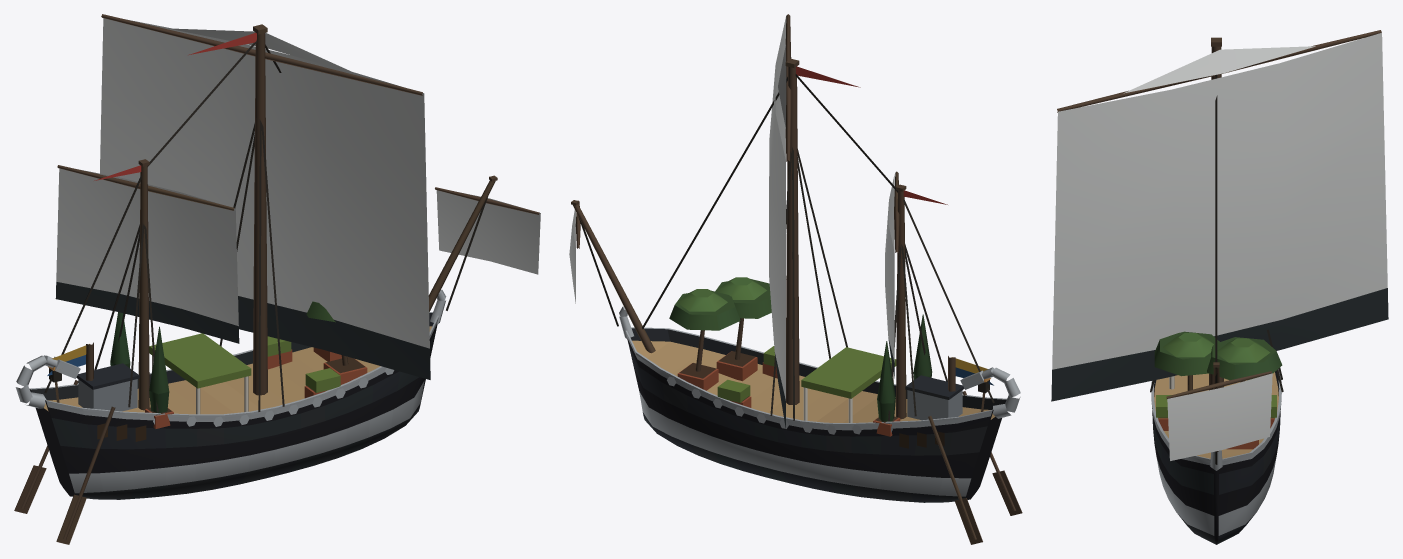
Rendered from titan_usde.glb.
3 views of the same model, side by side, from view 1: azimuth 30°, elevation 25°; view 2: azimuth 150°, elevation 25°; view 3: azimuth 270°, elevation 25° (orthographic). The views are drawn at different scales.
Parts seen in each view (by area): view 1: sail_main, hull, sail_extra, deck, mast, rigging, yards, flag; view 2: hull, deck, mast, sail_main, rigging, sail_extra, yards, flag; view 3: sail_main, hull, deck, sail_extra, yards, rigging, mast.
Boxes of the visible parts, x1,y1,x2,y2 form: sail_main: (100, 18, 540, 379); hull: (15, 289, 446, 499); sail_extra: (55, 28, 358, 343); deck: (14, 301, 367, 544); mast: (86, 24, 497, 410); rigging: (44, 40, 487, 412); yards: (57, 14, 539, 214); flag: (47, 32, 256, 375); hull: (619, 306, 1020, 502); deck: (669, 277, 1022, 544); mast: (571, 58, 955, 419); sail_main: (569, 16, 786, 429); rigging: (578, 74, 994, 421); sail_extra: (778, 45, 894, 378); yards: (575, 14, 899, 252); flag: (796, 66, 993, 385); sail_main: (1051, 32, 1388, 460); hull: (1151, 369, 1281, 544); deck: (1154, 331, 1282, 449); sail_extra: (1123, 46, 1315, 93); yards: (1057, 30, 1381, 399); rigging: (1150, 74, 1283, 464); mast: (1209, 37, 1223, 451).
Bounding box in the file's own units: 27.42 × 23.6 × 15.85.
